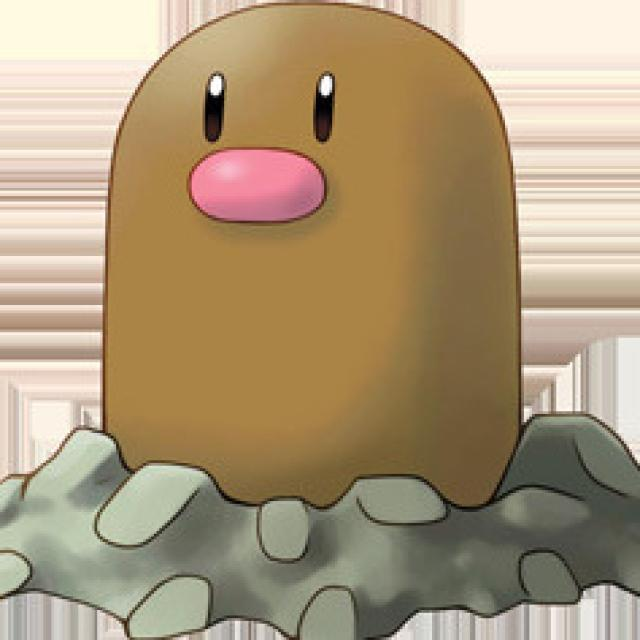Diglett: (92, 8, 519, 502)
